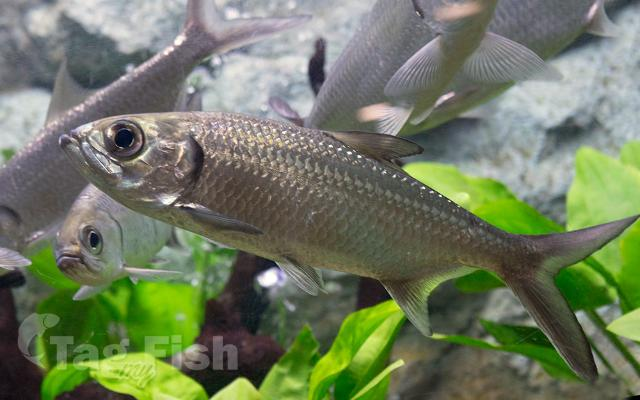Mulut: (51, 112, 98, 160), (45, 246, 95, 278)
Sirip Anal: (376, 251, 492, 344)
Sirip Dada: (382, 27, 566, 117), (165, 195, 253, 250)
Sirip Ekor: (512, 203, 640, 385)
Sirip Perut: (266, 246, 336, 300)
Sirip Punggung: (328, 114, 427, 176)
